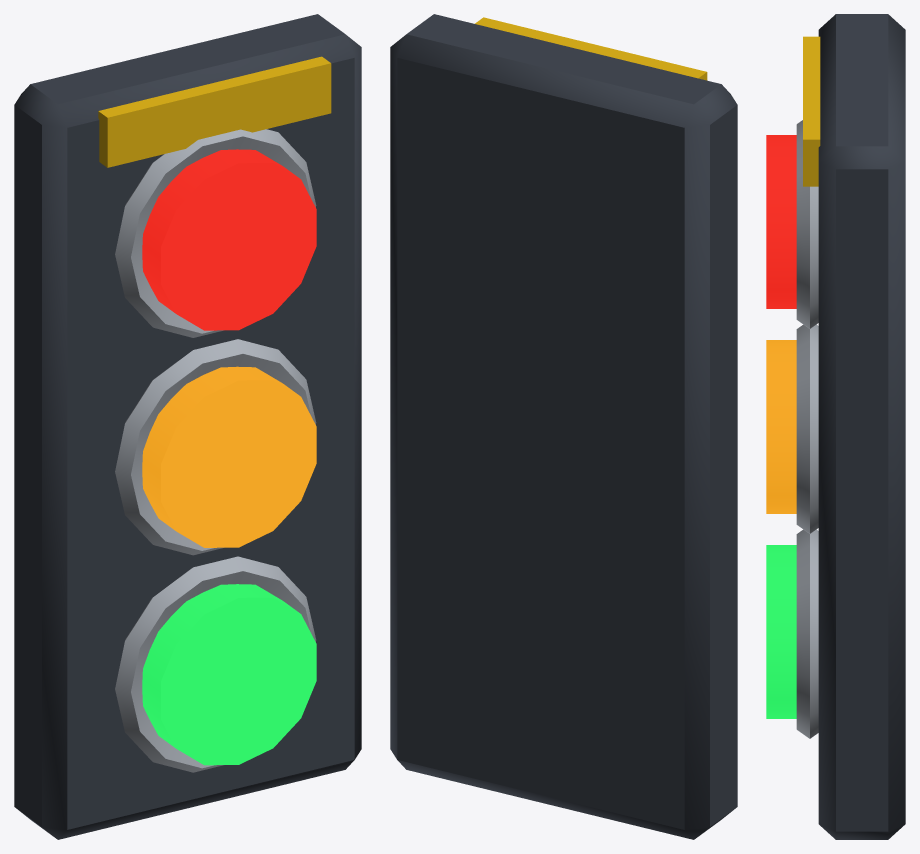
The model's file is warnlight_pressure_status_light.glb.
3 renders of one model, left to right at view 1: azimuth 30°, elevation 25°; view 2: azimuth 150°, elevation 25°; view 3: azimuth 270°, elevation 25°, orthographic. The views are drawn at different scales.
Parts seen in each view (by area): view 1: warnlight_pressure_status_light; view 2: warnlight_pressure_status_light; view 3: warnlight_pressure_status_light.
Boxes of the visible parts, x1=… form: warnlight_pressure_status_light: x1=14, y1=14, x2=361, y2=839; warnlight_pressure_status_light: x1=390, y1=14, x2=737, y2=839; warnlight_pressure_status_light: x1=766, y1=14, x2=905, y2=839.
Bounding box in the file's own units: 0.2 × 0.44 × 0.08.
